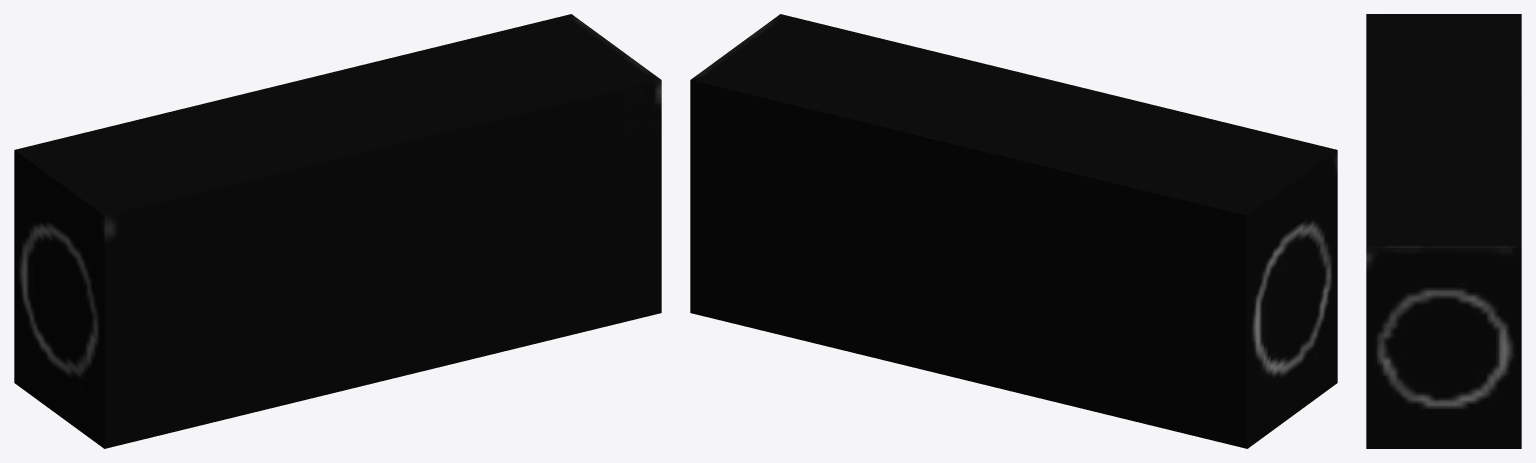
File: stabilizer__slider_block.glb
3 views of the same model, side by side, from view 1: azimuth 30°, elevation 25°; view 2: azimuth 150°, elevation 25°; view 3: azimuth 270°, elevation 25° (orthographic). The views are drawn at different scales.
Visible parts, largest first — view 1: geometry_0; view 2: geometry_0; view 3: geometry_0.
Boxes of the visible parts, x1,y1,x2,y2 form: geometry_0: (14, 14, 661, 448); geometry_0: (690, 14, 1337, 448); geometry_0: (1366, 14, 1521, 448).
Size of the model in its own units: 0.1 by 0.04 by 0.028.
1 material, 1 textured.
